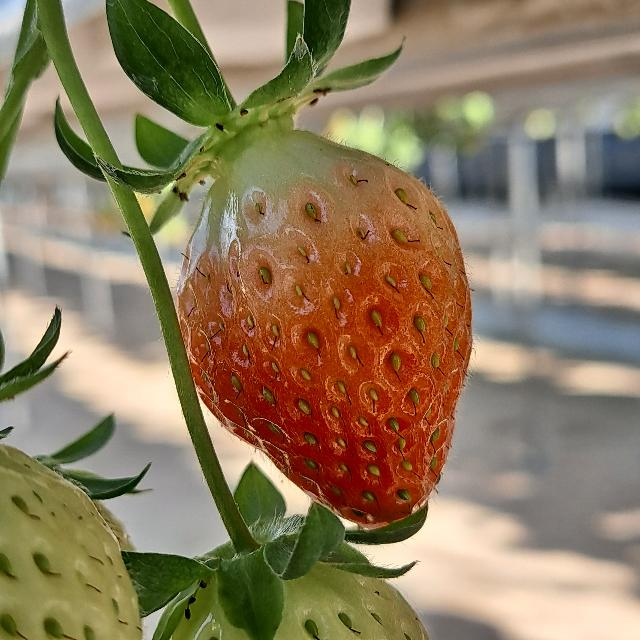Health_100: (175, 130, 472, 528)
